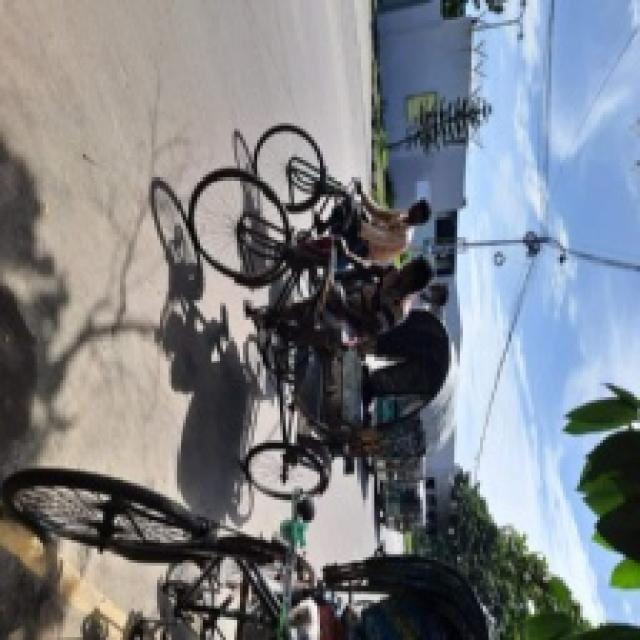rickshaw: (38, 454, 498, 628), (189, 170, 454, 464)
